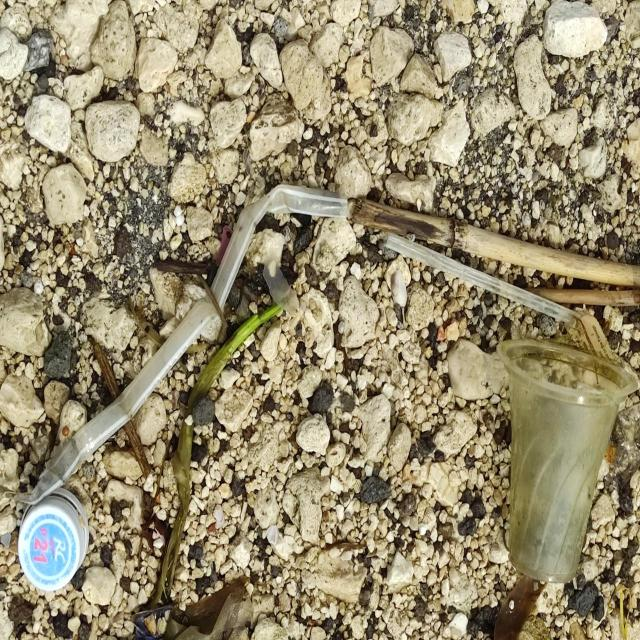plastic_waste: (14, 185, 350, 505), (497, 338, 640, 584), (386, 234, 582, 326), (20, 488, 91, 592)
